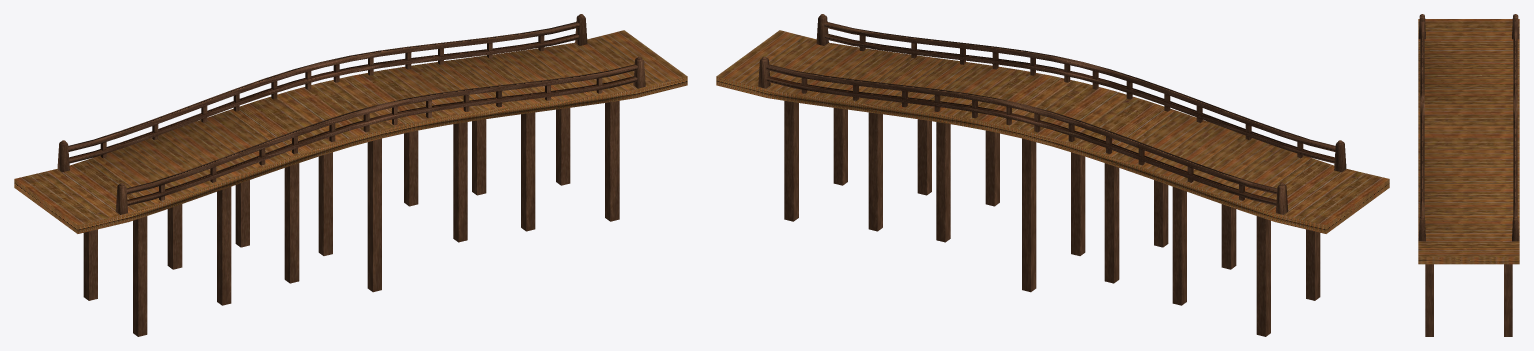
Rendered from birj-bridge.glb.
The picture shows the model from 3 angles, left to right: view 1: azimuth 30°, elevation 25°; view 2: azimuth 150°, elevation 25°; view 3: azimuth 270°, elevation 25°; orthographic projection. The views are drawn at different scales.
Visible parts, largest first — view 1: Cube, Cube.002, Cube.012, Cube.003, Cube.004, Cube.005, Cube.001, Cube.007; view 2: Cube, Cube.002, Cube.012, Cube.003, Cube.004, Cube.005, Cube.001, Cube.007; view 3: Cube, Cube.002, Cube.003, Cube.007.
Boxes of the visible parts, x1=… form: Cube: x1=14, y1=30, x2=687, y2=233; Cube.002: x1=68, y1=22, x2=637, y2=194; Cube.012: x1=69, y1=33, x2=637, y2=205; Cube.003: x1=83, y1=101, x2=619, y2=336; Cube.004: x1=235, y1=122, x2=467, y2=283; Cube.005: x1=167, y1=112, x2=535, y2=305; Cube.001: x1=318, y1=138, x2=381, y2=292; Cube.007: x1=57, y1=15, x2=645, y2=214; Cube: x1=716, y1=30, x2=1389, y2=233; Cube.002: x1=766, y1=22, x2=1335, y2=194; Cube.012: x1=766, y1=33, x2=1334, y2=205; Cube.003: x1=784, y1=101, x2=1320, y2=336; Cube.004: x1=936, y1=122, x2=1168, y2=283; Cube.005: x1=868, y1=112, x2=1236, y2=305; Cube.001: x1=1022, y1=138, x2=1085, y2=292; Cube.007: x1=758, y1=15, x2=1346, y2=214; Cube: x1=1418, y1=19, x2=1519, y2=264; Cube.002: x1=1420, y1=21, x2=1517, y2=216; Cube.003: x1=1425, y1=264, x2=1512, y2=336; Cube.007: x1=1418, y1=14, x2=1519, y2=241.
Bounding box in the file's own units: 100 × 29.27 × 18.
Materials: 4 (4 with a texture image).
